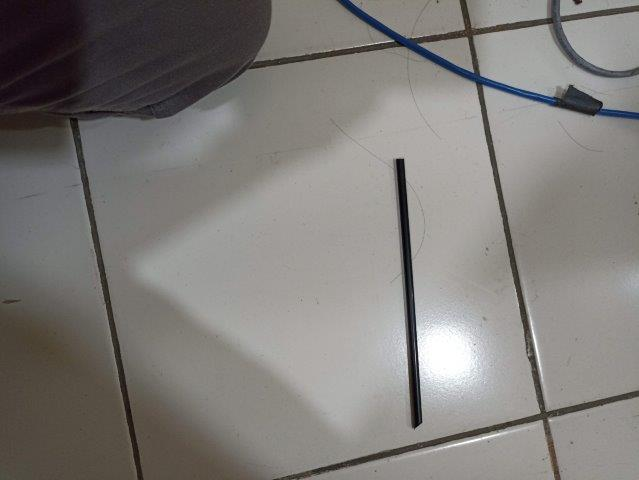sedotan: (396, 158, 422, 430)
